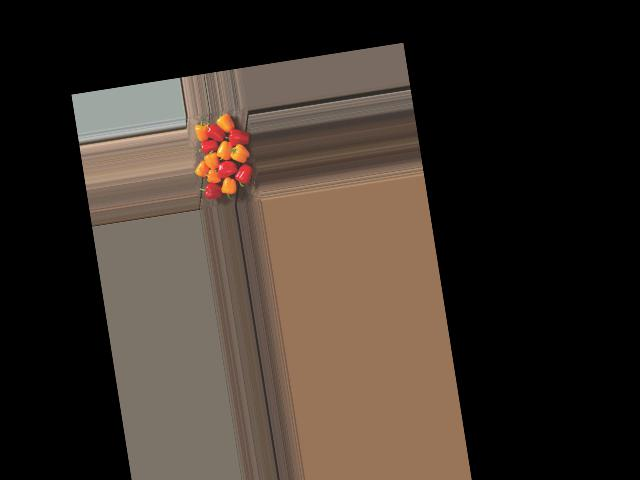bell_pepper: (215, 111, 239, 139)
